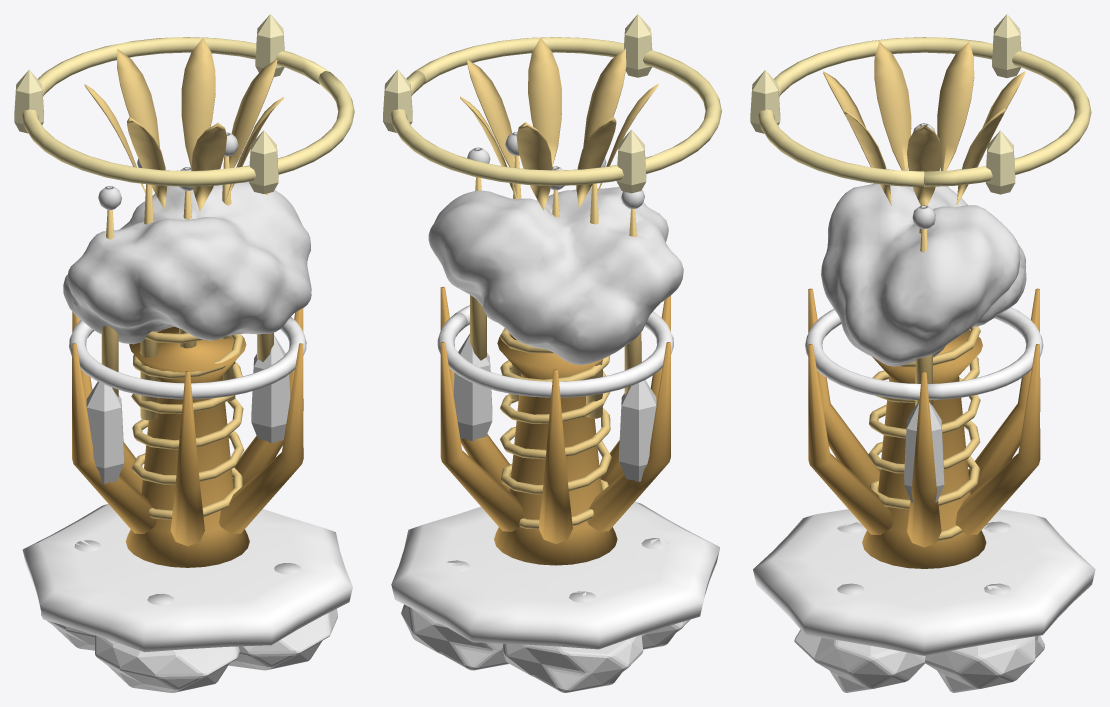
File: thunder-5.fbx
3 views of the same model, side by side, from view 1: azimuth 30°, elevation 25°; view 2: azimuth 150°, elevation 25°; view 3: azimuth 270°, elevation 25° (orthographic).
Visible parts, largest first — view 1: Turret_Metal, SuperPlinth, ContinuousStormCloud, Ring03_SuperGlow, Base_Stone, Turret_Glow, ConductiveHalo, Base_Organic; view 2: Turret_Metal, ContinuousStormCloud, SuperPlinth, Ring03_SuperGlow, Base_Stone, Turret_Glow, ConductiveHalo, Base_Organic; view 3: Turret_Metal, SuperPlinth, ContinuousStormCloud, Ring03_SuperGlow, Base_Stone, ConductiveHalo, Turret_Glow, Base_Organic.
Boxes of the visible parts, x1,y1,x2,y2 form: Turret_Metal: (72,37,303,567); SuperPlinth: (22,504,352,652); ContinuousStormCloud: (63,181,311,344); Ring03_SuperGlow: (14,14,354,193); Base_Stone: (41,608,337,692); Turret_Glow: (86,132,290,483); ConductiveHalo: (69,317,306,399); Base_Organic: (74,540,300,605); Turret_Metal: (440,37,670,565); ContinuousStormCloud: (428,187,683,364); SuperPlinth: (391,502,719,649); Ring03_SuperGlow: (383,14,721,193); Base_Stone: (401,604,689,692); Turret_Glow: (453,132,656,481); ConductiveHalo: (437,305,673,397); Base_Organic: (446,538,668,602); Turret_Metal: (808,41,1040,568); SuperPlinth: (753,509,1095,655); ContinuousStormCloud: (821,183,1026,366); Ring03_SuperGlow: (750,14,1091,194); Base_Stone: (794,629,1044,692); ConductiveHalo: (805,307,1043,399); Turret_Glow: (904,123,944,502); Base_Organic: (837,521,1010,595).
Bounding box in the file's own units: 111 × 209 × 112.
